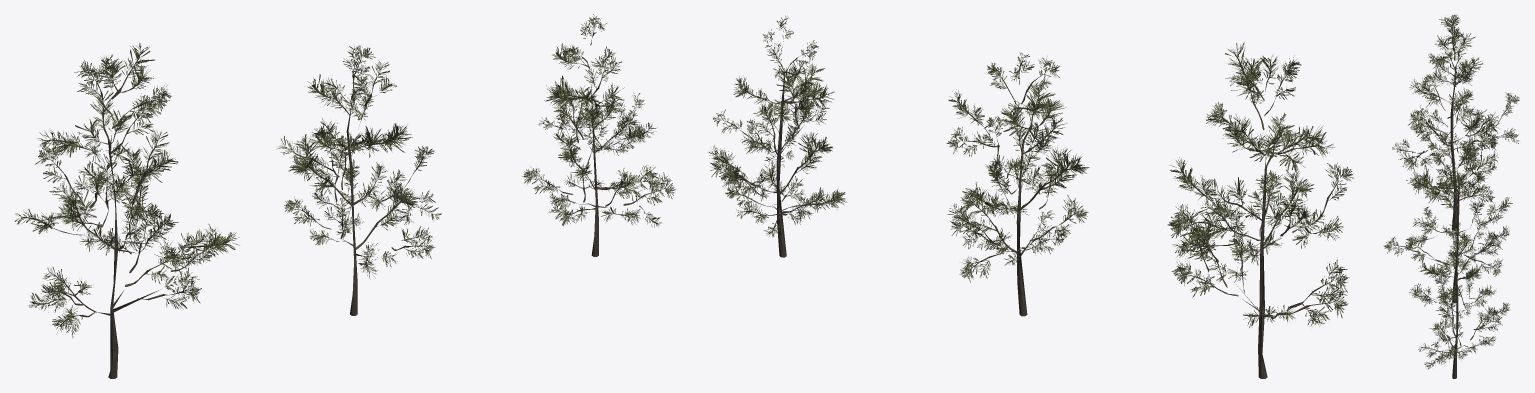
Rendered from pine_mobile.glb.
3 renders of one model, left to right at view 1: azimuth 30°, elevation 25°; view 2: azimuth 150°, elevation 25°; view 3: azimuth 270°, elevation 25°, orthographic. The views are drawn at different scales.
Visible parts, largest first — view 1: pine_sapling_small_a, pine_sapling_small_b, pine_sapling_small_c; view 2: pine_sapling_small_a, pine_sapling_small_b, pine_sapling_small_c; view 3: pine_sapling_small_a, pine_sapling_small_b, pine_sapling_small_c.
Part boxes in pixels (x1,y1,x2,y2): pine_sapling_small_a: [14, 43, 239, 378]; pine_sapling_small_b: [276, 45, 441, 315]; pine_sapling_small_c: [522, 14, 675, 256]; pine_sapling_small_a: [1167, 42, 1353, 378]; pine_sapling_small_b: [946, 52, 1089, 316]; pine_sapling_small_c: [708, 15, 846, 257]; pine_sapling_small_a: [1392, 14, 1519, 229]; pine_sapling_small_b: [1383, 133, 1512, 303]; pine_sapling_small_c: [1409, 222, 1509, 378].
Size of the model in its own units: 2.64 by 1.3 by 0.7699.
Materials: 2 (2 with a texture image).
